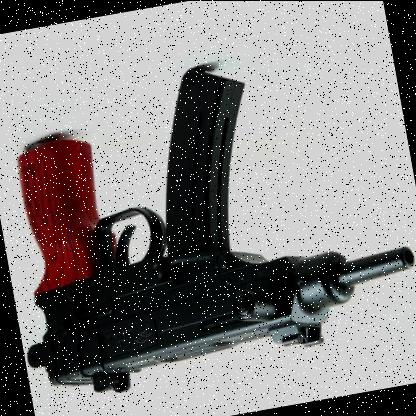rifle: (0, 45, 416, 410)
